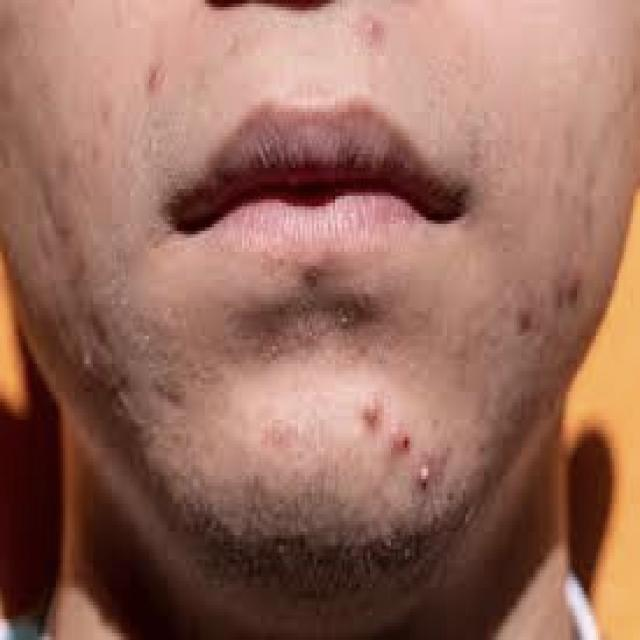Acne: (410, 450, 450, 496), (552, 265, 584, 313), (384, 420, 418, 458), (358, 390, 386, 432), (358, 10, 385, 50), (144, 59, 170, 97)
